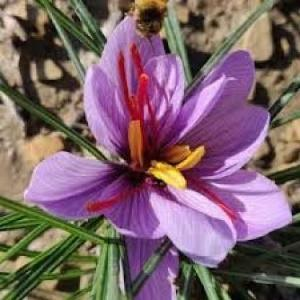Saffron: (26, 17, 294, 268)
